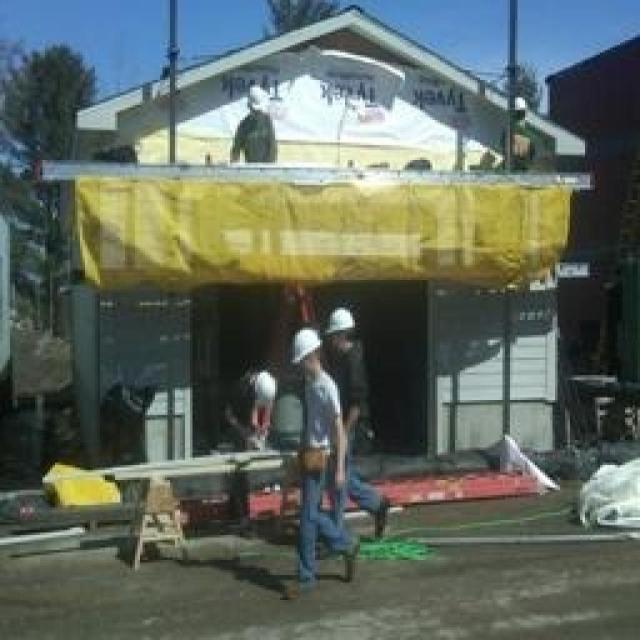Helmet: (294, 364, 358, 494), (232, 105, 302, 186), (328, 338, 376, 436), (212, 368, 266, 452), (280, 313, 324, 396), (317, 289, 358, 360), (237, 73, 275, 118), (245, 362, 278, 411)
